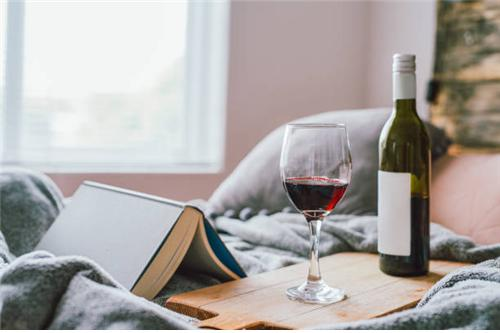alcohol: (281, 123, 354, 307), (375, 52, 433, 278)
